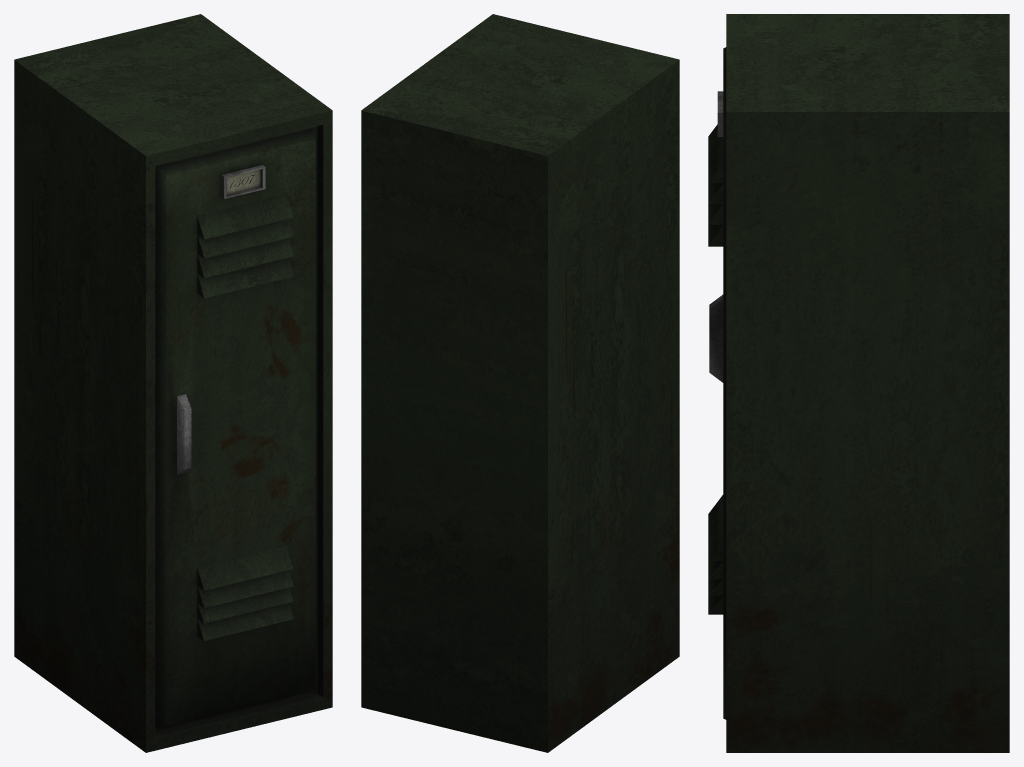
File: Lockers.obj
The picture shows the model from 3 angles, left to right: view 1: azimuth 30°, elevation 25°; view 2: azimuth 150°, elevation 25°; view 3: azimuth 270°, elevation 25°; orthographic projection. The views are drawn at different scales.
Visible parts, largest first — view 1: Cube; view 2: Cube; view 3: Cube.
Part boxes in pixels (<box>): Cube: <box>14,14,332,752</box>; Cube: <box>361,14,679,752</box>; Cube: <box>708,14,1009,752</box>.
Size of the model in its own units: 3.36 by 10.27 by 4.37.
